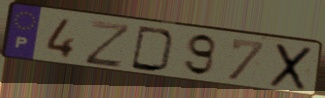4: (44, 18, 78, 61)
7: (228, 37, 267, 83)
9: (180, 33, 219, 79)
D: (128, 24, 178, 75)
X: (267, 42, 316, 93)
Z: (82, 19, 134, 70)
